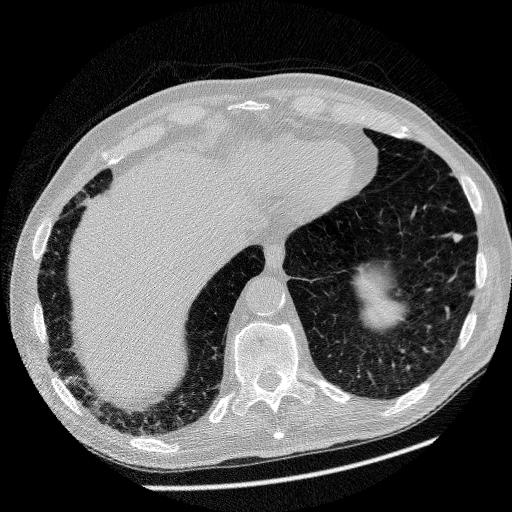nodule: (449, 230, 465, 246)
